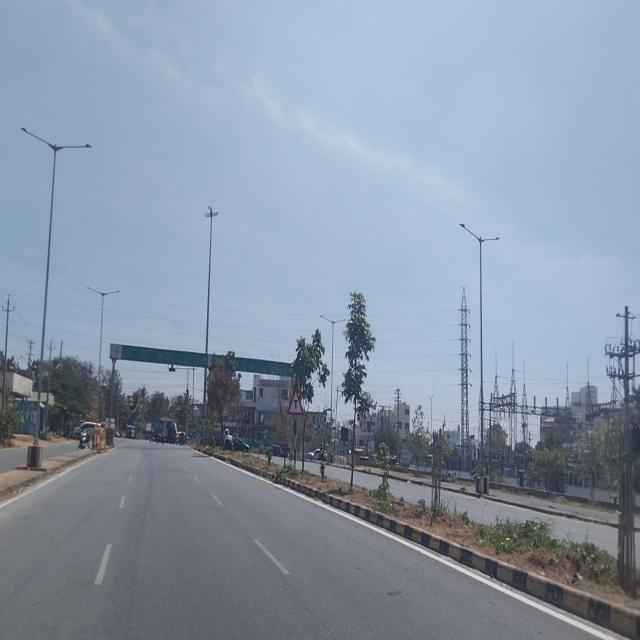bien_nguy_hiem: (287, 384, 305, 416), (220, 403, 229, 418)
